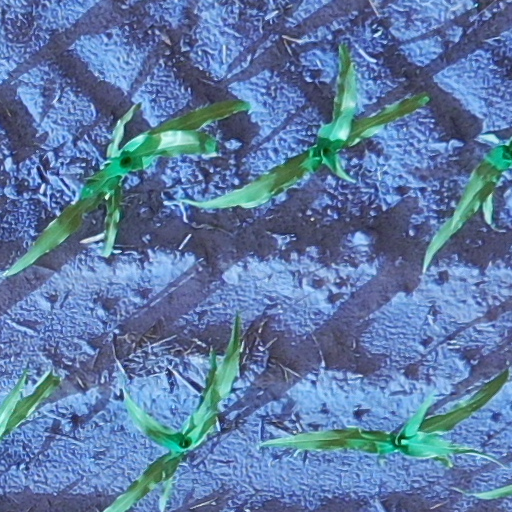planta: (180, 41, 435, 214)
